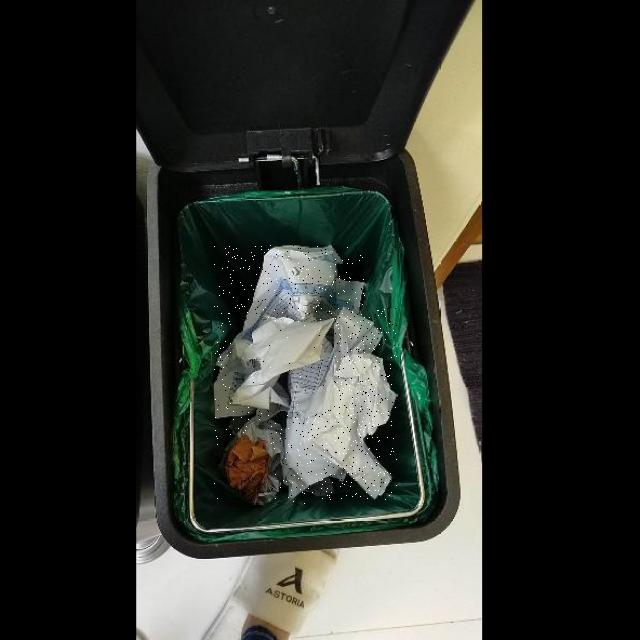paper: (215, 246, 365, 504), (303, 308, 397, 500), (232, 318, 334, 410), (220, 435, 271, 504)
